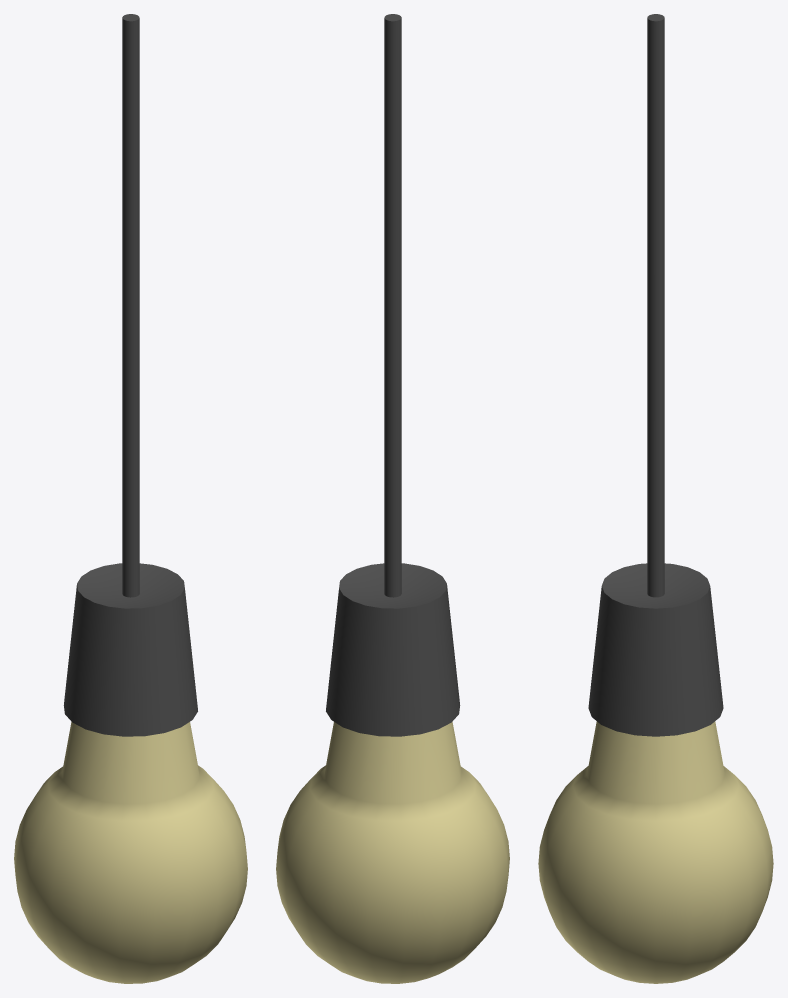
The model's file is lightbulb.fbx.
3 renders of one model, left to right at view 1: azimuth 30°, elevation 25°; view 2: azimuth 150°, elevation 25°; view 3: azimuth 270°, elevation 25°, orthographic.
Parts seen in each view (by area): view 1: pSphere2; view 2: pSphere2; view 3: pSphere2.
Boxes of the visible parts, box(x1,y1,x2,y2) form: pSphere2: box(14, 14, 247, 983); pSphere2: box(276, 14, 509, 983); pSphere2: box(538, 14, 773, 983).
Size of the model in its own units: 2 by 8.97 by 2.
